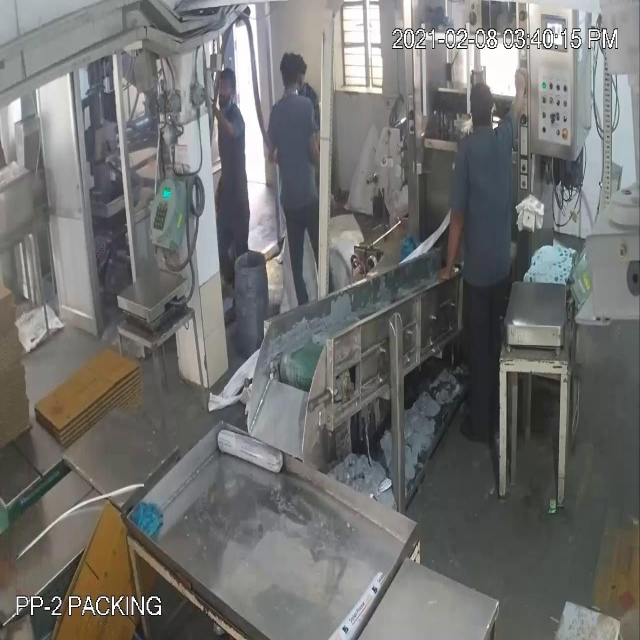Sin_guantes: (435, 195, 463, 293), (506, 54, 534, 133)
